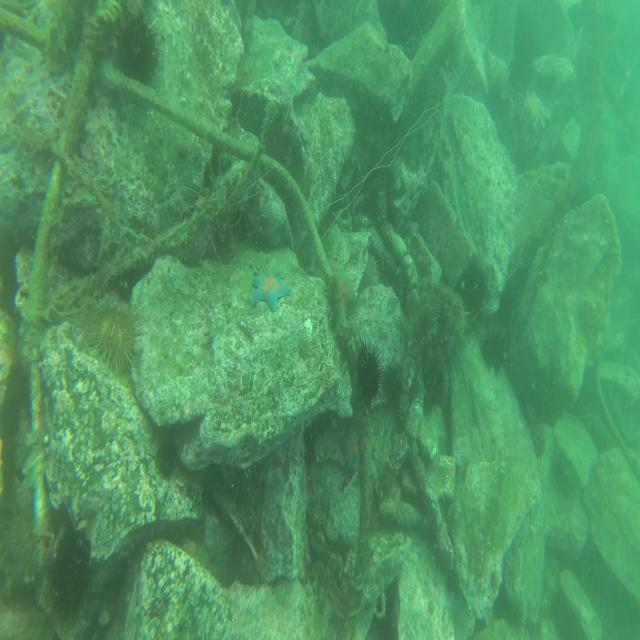echinus: (50, 526, 92, 628), (84, 299, 139, 374), (112, 8, 160, 87), (2, 506, 43, 584), (354, 337, 384, 406), (420, 355, 450, 412), (458, 258, 486, 318), (508, 47, 538, 96), (378, 358, 406, 410), (480, 325, 507, 372)
starfish: (252, 268, 292, 315), (338, 427, 362, 472), (333, 266, 355, 308)
